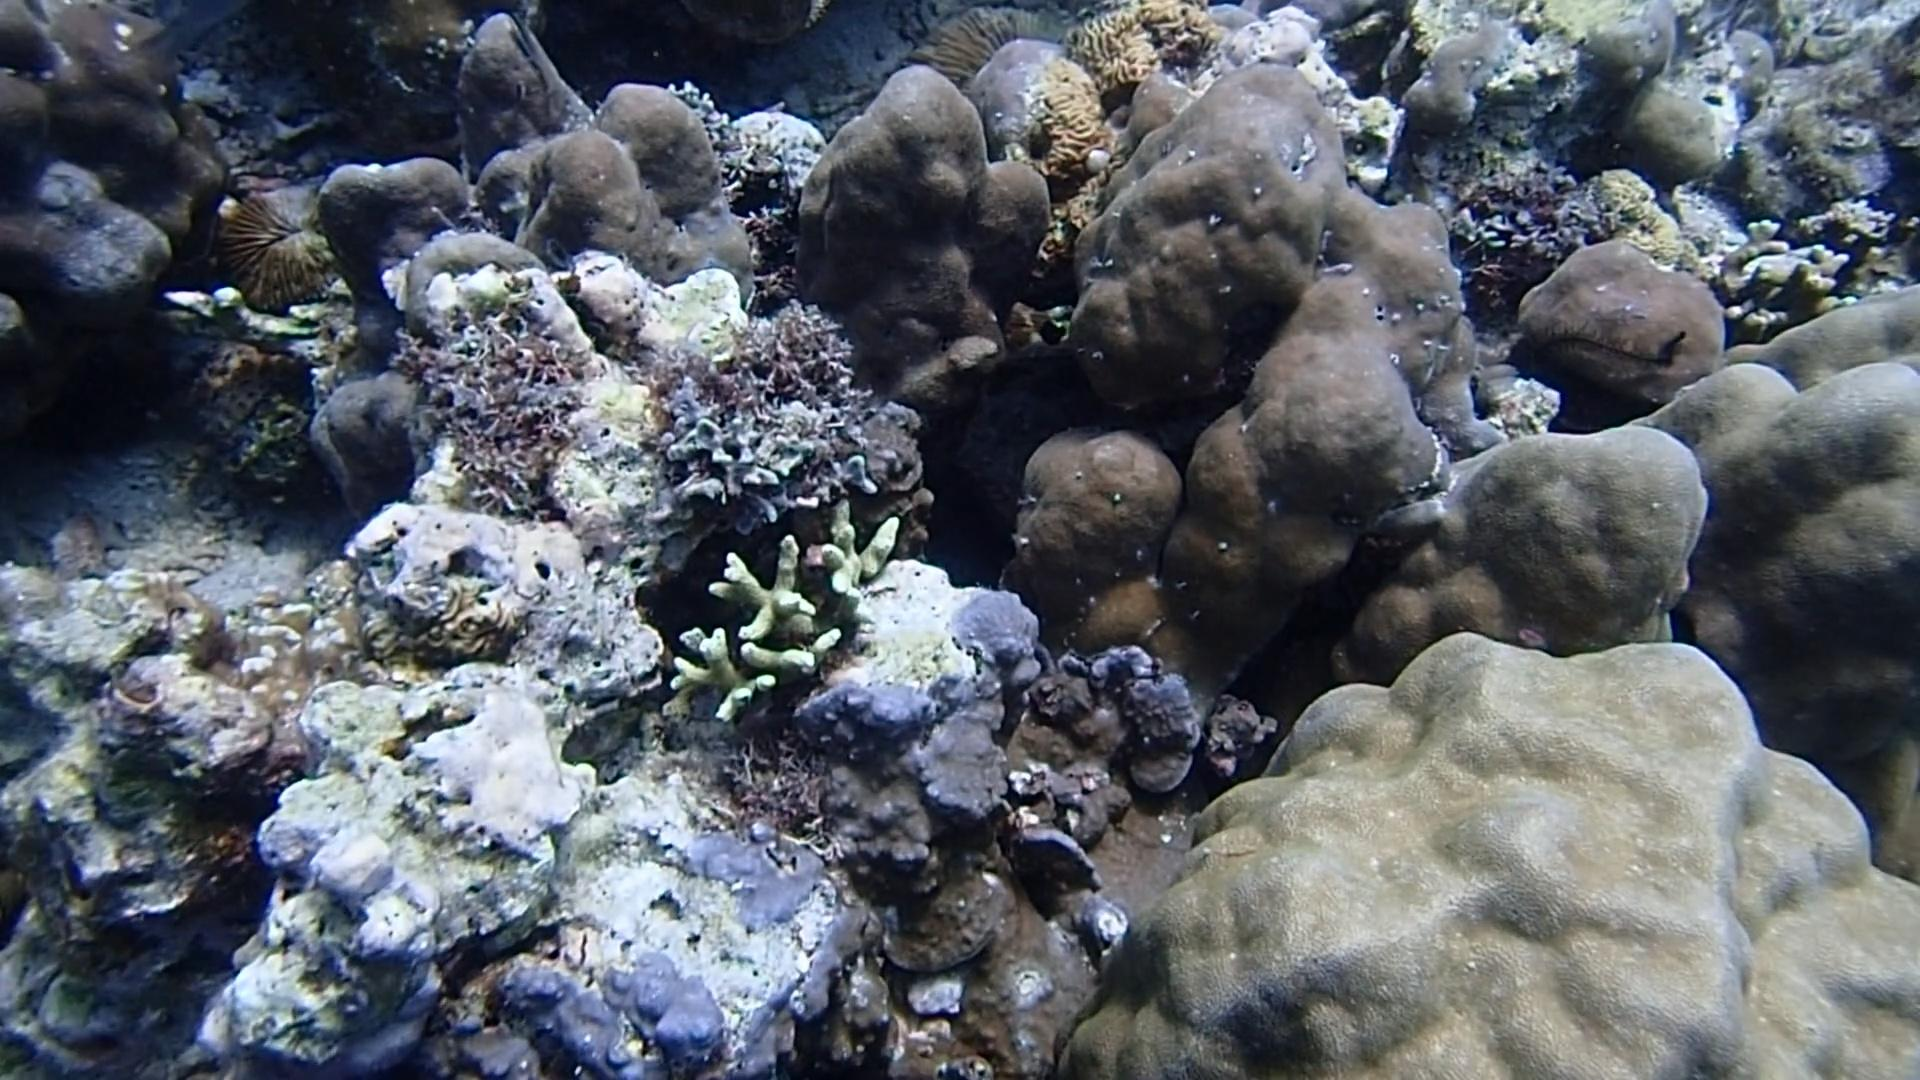Blue Fish Two: (120, 0, 257, 88)
